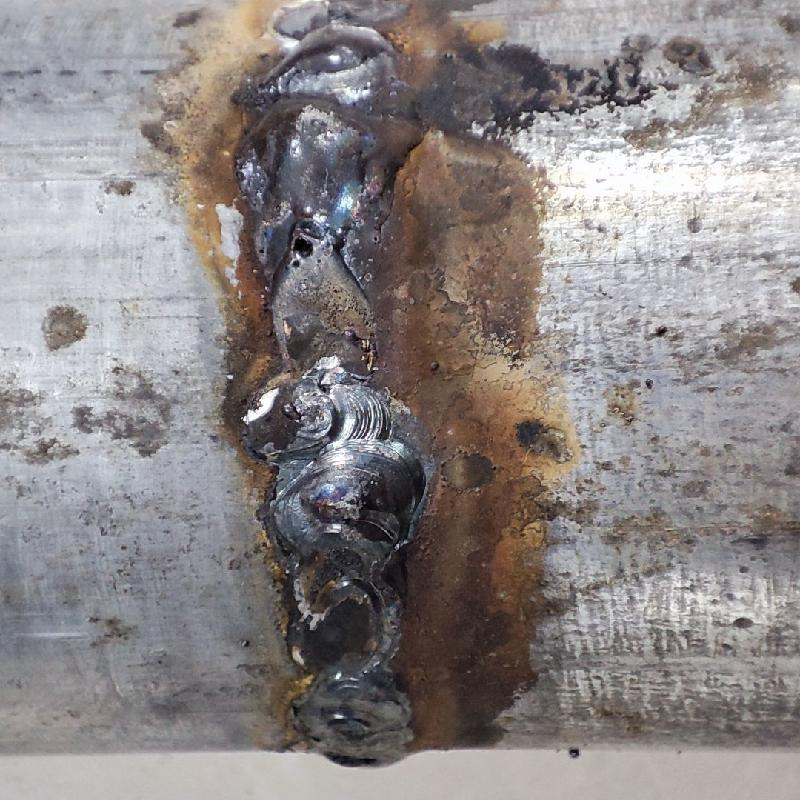Not_fully_soldered: (228, 230, 398, 445)
Surface_pores: (262, 220, 337, 274)
Weld: (213, 15, 415, 250)
